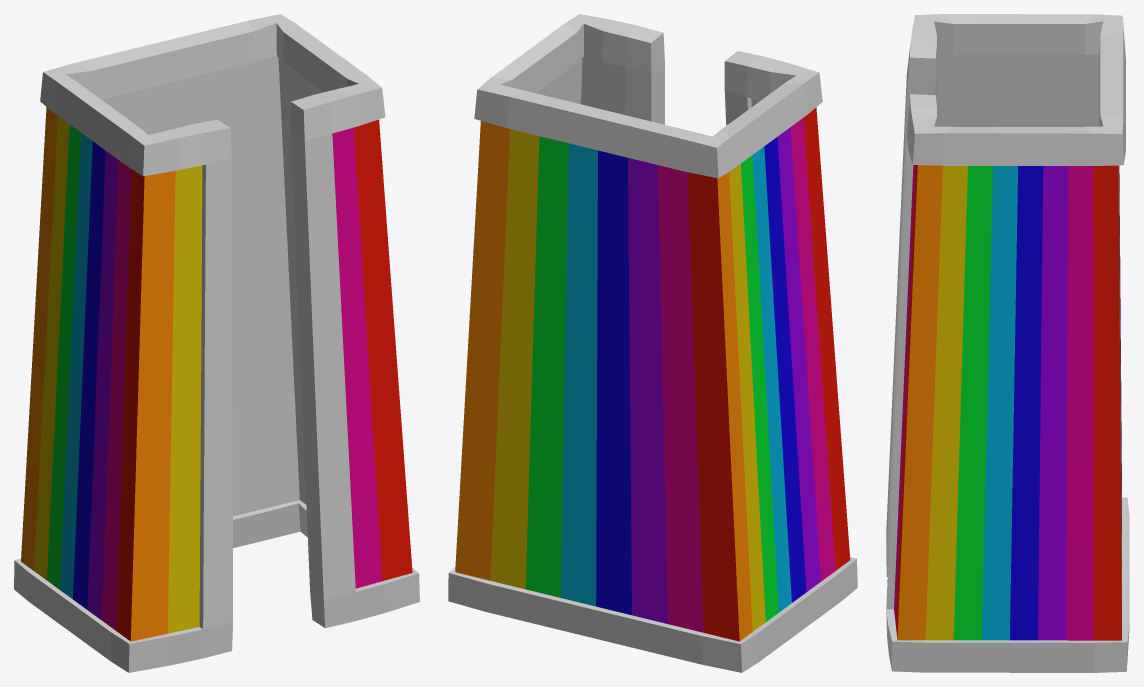
File: t_coat_2.fbx
The picture shows the model from 3 angles, left to right: view 1: azimuth 30°, elevation 25°; view 2: azimuth 150°, elevation 25°; view 3: azimuth 270°, elevation 25°; orthographic projection. The views are drawn at different scales.
Parts seen in each view (by area): view 1: coat_2; view 2: coat_2; view 3: coat_2.
Part boxes in pixels (x1,y1,x2,y2): coat_2: (14, 14, 419, 672); coat_2: (448, 14, 857, 672); coat_2: (886, 14, 1129, 672).
Size of the model in its own units: 54.66 by 92.17 by 38.45.
